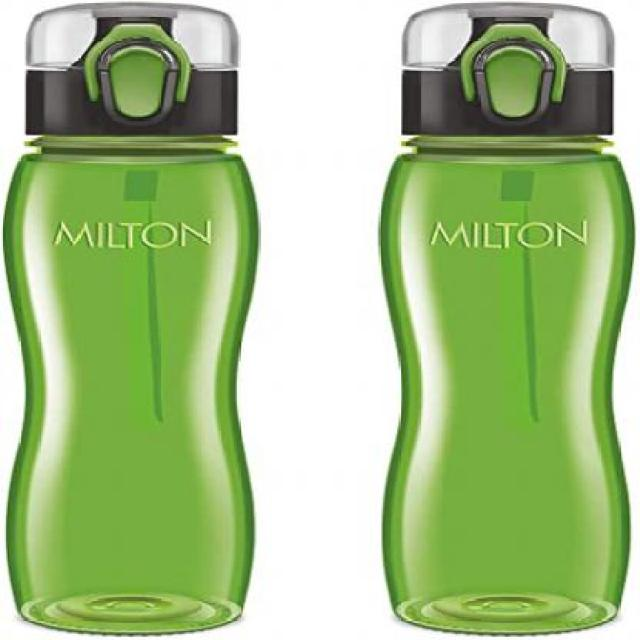Drinking: (11, 6, 267, 631), (382, 7, 620, 636)
